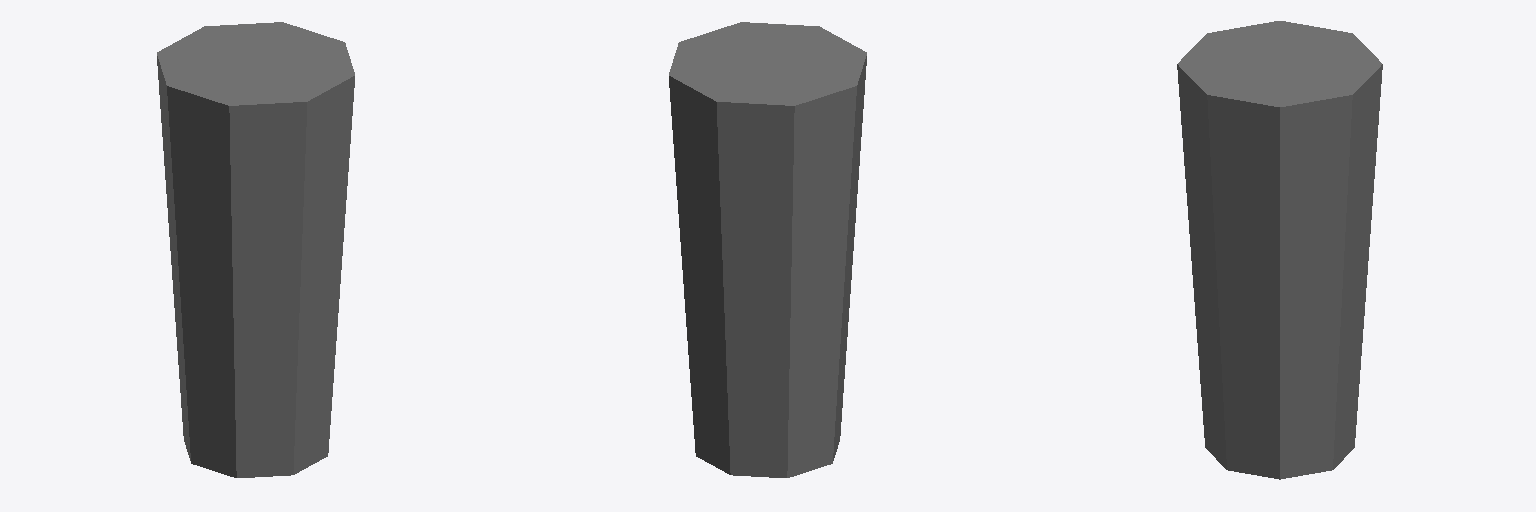
File: Player_RightSubLeg.obj
3 views of the same model, side by side, from view 1: azimuth 30°, elevation 25°; view 2: azimuth 150°, elevation 25°; view 3: azimuth 270°, elevation 25° (orthographic).
Parts seen in each view (by area): view 1: RightSubLeg; view 2: RightSubLeg; view 3: RightSubLeg.
Part boxes in pixels (x1,y1,x2,y2): RightSubLeg: (157, 22, 354, 477); RightSubLeg: (669, 22, 866, 477); RightSubLeg: (1177, 21, 1382, 479).
Size of the model in its own units: 13.6 by 27.99 by 13.6.